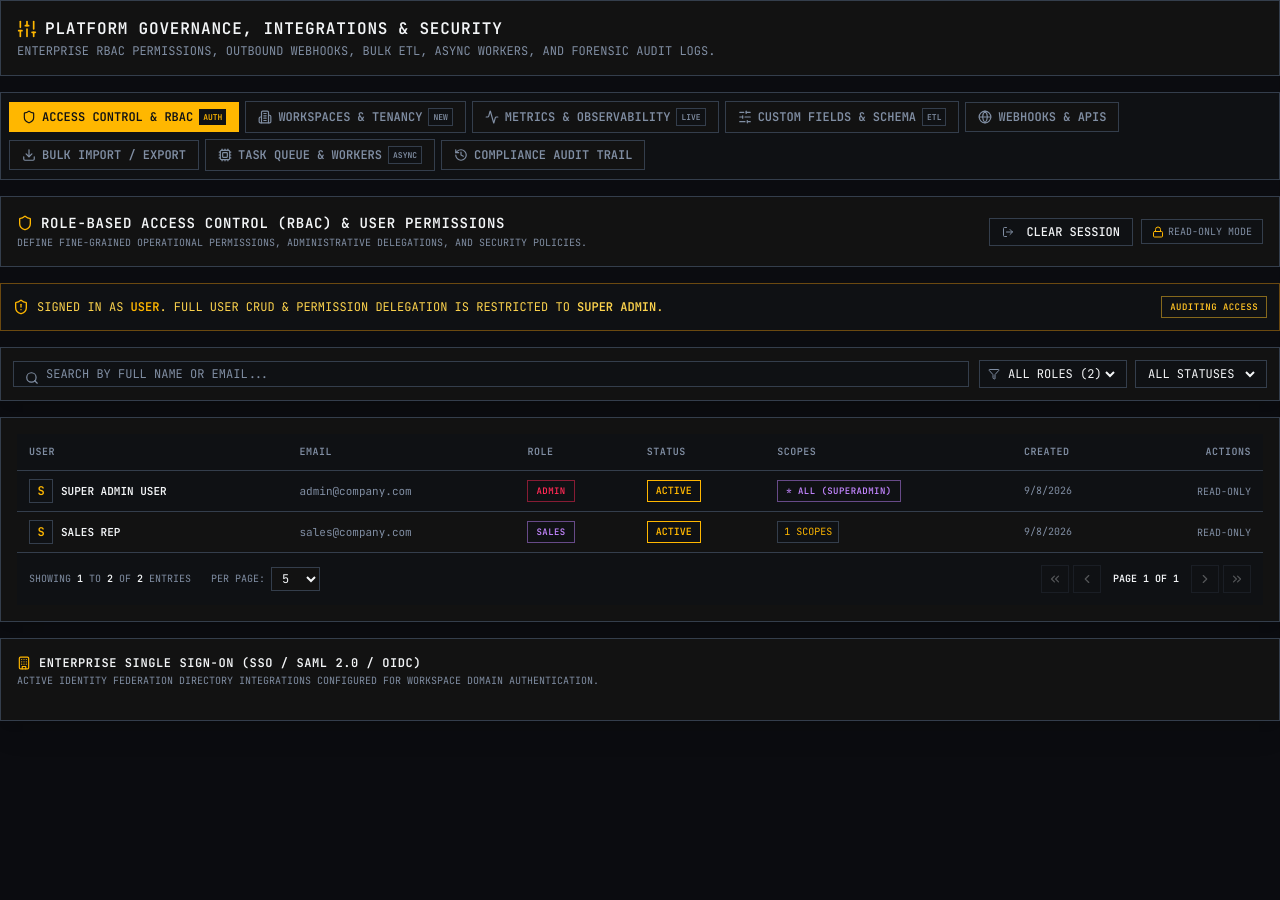
Scenario: Settings & Governance Studio Feature › switches to Bulk Import / Export tab when clicked
Click the button "BULK IMPORT / EXPORT" at (104, 155), box top-left (9, 140), bottom-right (199, 170)
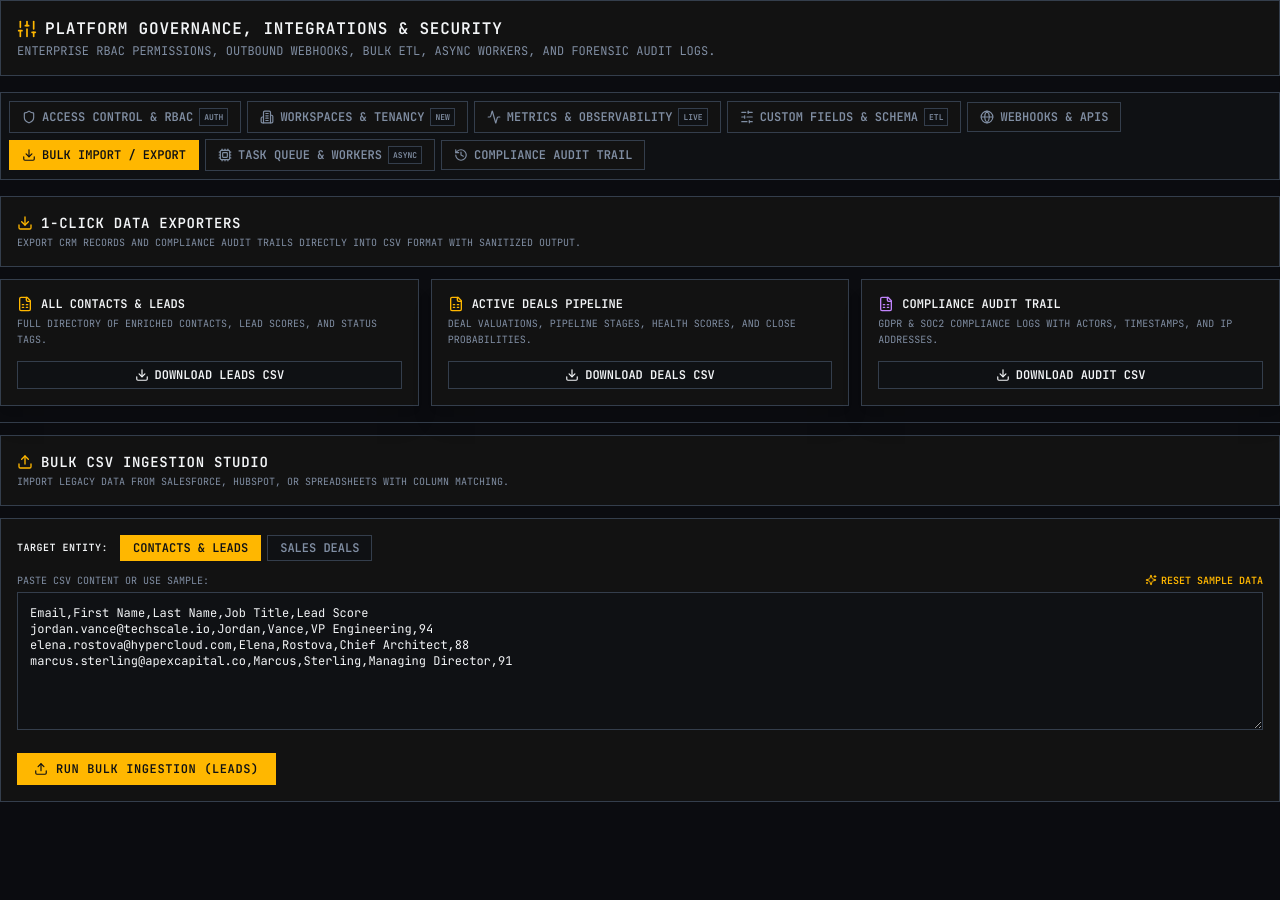
Expected: the heading "1-CLICK DATA EXPORTERS" is shown, top-left (17, 214), bottom-right (241, 232)
Expected: the heading "BULK CSV INGESTION STUDIO" is shown, top-left (17, 452), bottom-right (268, 470)
Expected: the button "DOWNLOAD LEADS CSV" is shown, top-left (17, 360), bottom-right (402, 388)
